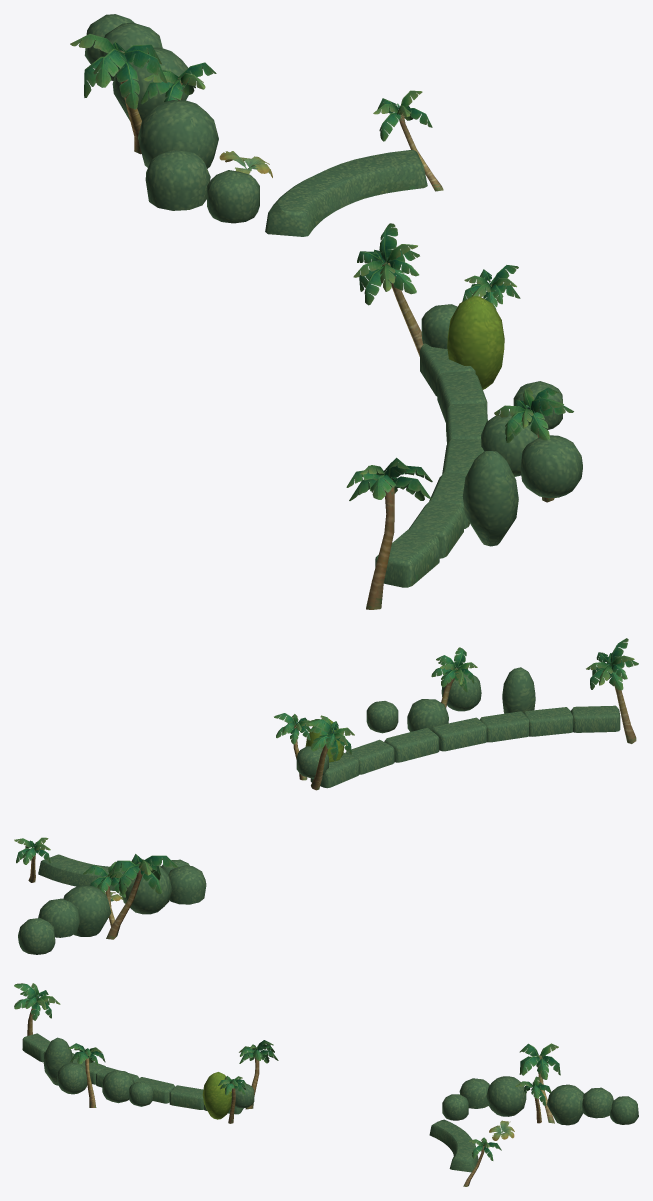
File: pref_sm_beach_bk_pointmol_lefttree_lv0.fbx
The picture shows the model from 3 angles, top to bottom: view 1: azimuth 30°, elevation 25°; view 2: azimuth 150°, elevation 25°; view 3: azimuth 270°, elevation 25°; orthographic projection. The views are drawn at different scales.
Parts seen in each view (by area): view 1: pref_sm_beach_bk_pointmol_lefttree_lv0; view 2: pref_sm_beach_bk_pointmol_lefttree_lv0; view 3: pref_sm_beach_bk_pointmol_lefttree_lv0.
Part boxes in pixels (x1,y1,x2,y2): pref_sm_beach_bk_pointmol_lefttree_lv0: (70,14,582,609); pref_sm_beach_bk_pointmol_lefttree_lv0: (14,638,638,954); pref_sm_beach_bk_pointmol_lefttree_lv0: (14,983,638,1186).
Size of the model in its own units: 29.83 by 9.37 by 62.27.
